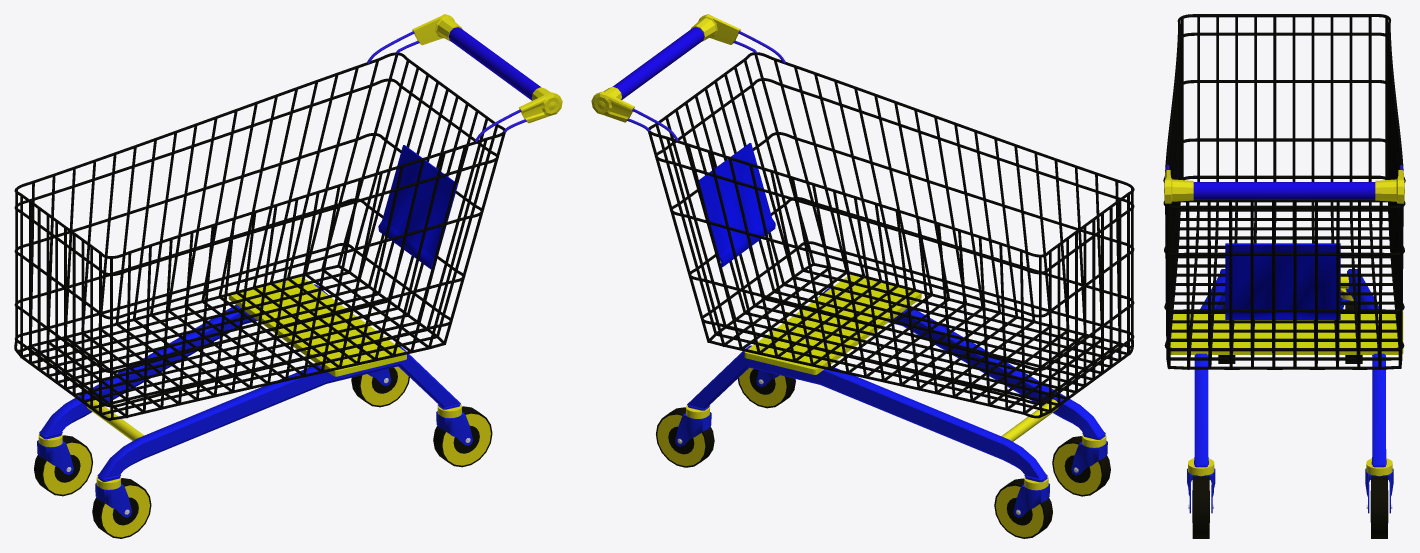
File: cart.glb
The picture shows the model from 3 angles, left to right: view 1: azimuth 30°, elevation 25°; view 2: azimuth 150°, elevation 25°; view 3: azimuth 270°, elevation 25°; orthographic projection. The views are drawn at different scales.
Visible parts, largest first — view 1: uploads-files-48816-Shopping_Cart; view 2: uploads-files-48816-Shopping_Cart; view 3: uploads-files-48816-Shopping_Cart.
Boxes of the visible parts, box(x1,y1,x2,y2) form: uploads-files-48816-Shopping_Cart: box(14, 14, 562, 538); uploads-files-48816-Shopping_Cart: box(591, 14, 1134, 538); uploads-files-48816-Shopping_Cart: box(1163, 14, 1405, 538).
Size of the model in its own units: 5.21 by 4.03 by 2.24.
